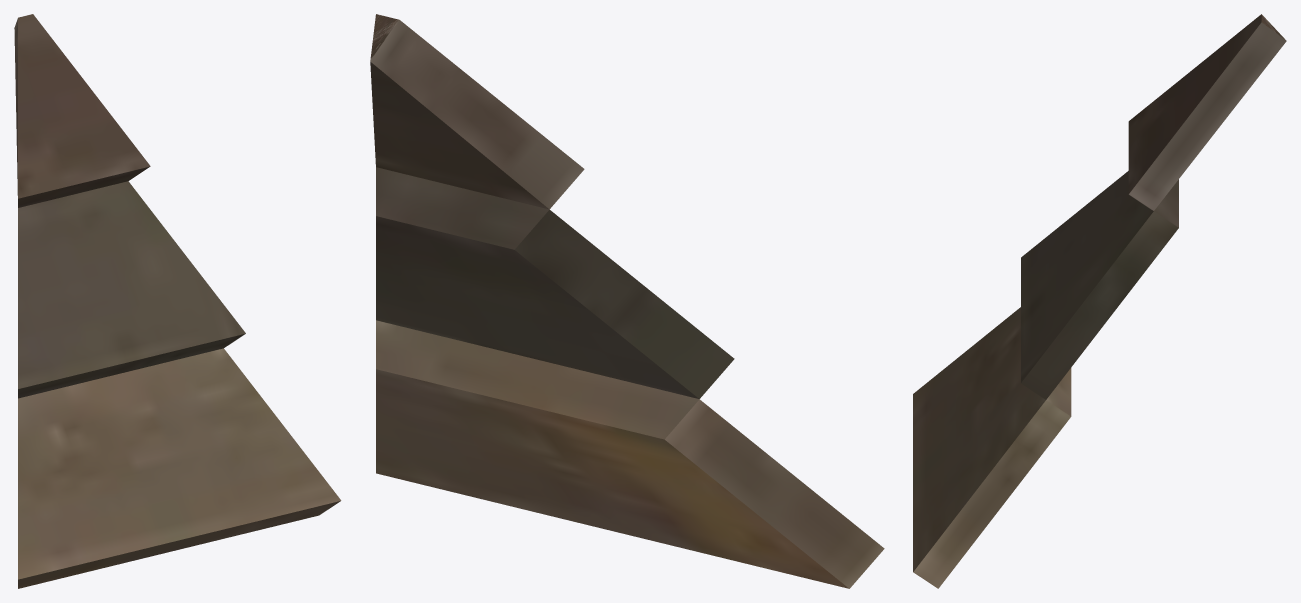
File: roof.triangle.frontier.up.top.line.glb
The picture shows the model from 3 angles, left to right: view 1: azimuth 30°, elevation 25°; view 2: azimuth 150°, elevation 25°; view 3: azimuth 270°, elevation 25°; orthographic projection. The views are drawn at different scales.
Visible parts, largest first — view 1: roof.triangle.up.top.line; view 2: roof.triangle.up.top.line; view 3: roof.triangle.up.top.line.
Boxes of the visible parts, x1,y1,x2,y2 form: roof.triangle.up.top.line: (14, 14, 341, 588); roof.triangle.up.top.line: (370, 14, 884, 588); roof.triangle.up.top.line: (913, 14, 1286, 588).
Size of the model in its own units: 0.4146 by 0.5288 by 0.3671.
Materials: 1 (1 with a texture image).
